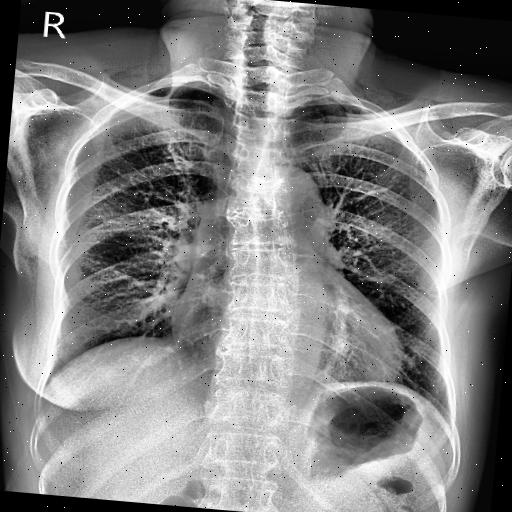0- Aortic enlargement: (196, 161, 332, 275), (233, 160, 331, 249), (257, 167, 328, 228)
3- Cardiomegaly: (165, 289, 403, 385), (166, 302, 406, 390)
